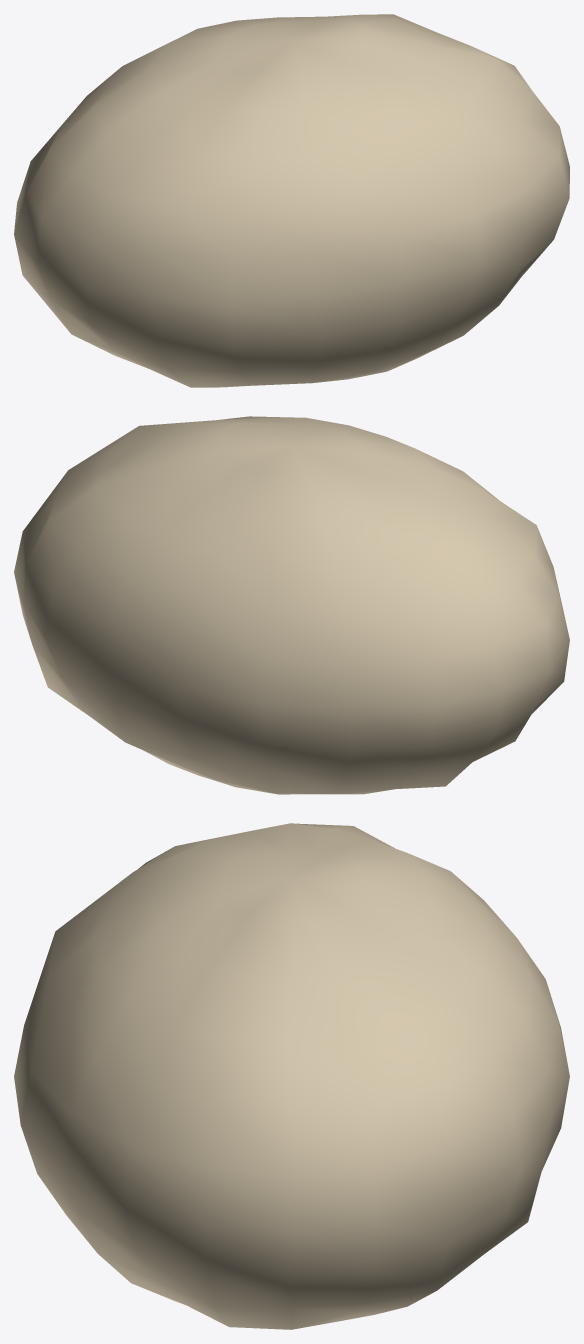
File: hero-pebble-2.glb
The picture shows the model from 3 angles, top to bottom: view 1: azimuth 30°, elevation 25°; view 2: azimuth 150°, elevation 25°; view 3: azimuth 270°, elevation 25°; orthographic projection. The views are drawn at different scales.
Parts seen in each view (by area): view 1: Water worn river pebble.002; view 2: Water worn river pebble.002; view 3: Water worn river pebble.002.
Part boxes in pixels (x1,y1,x2,y2): Water worn river pebble.002: (14, 14, 569, 387); Water worn river pebble.002: (14, 416, 569, 794); Water worn river pebble.002: (14, 823, 569, 1329).
Size of the model in its own units: 0.036 by 0.0216 by 0.0274.
